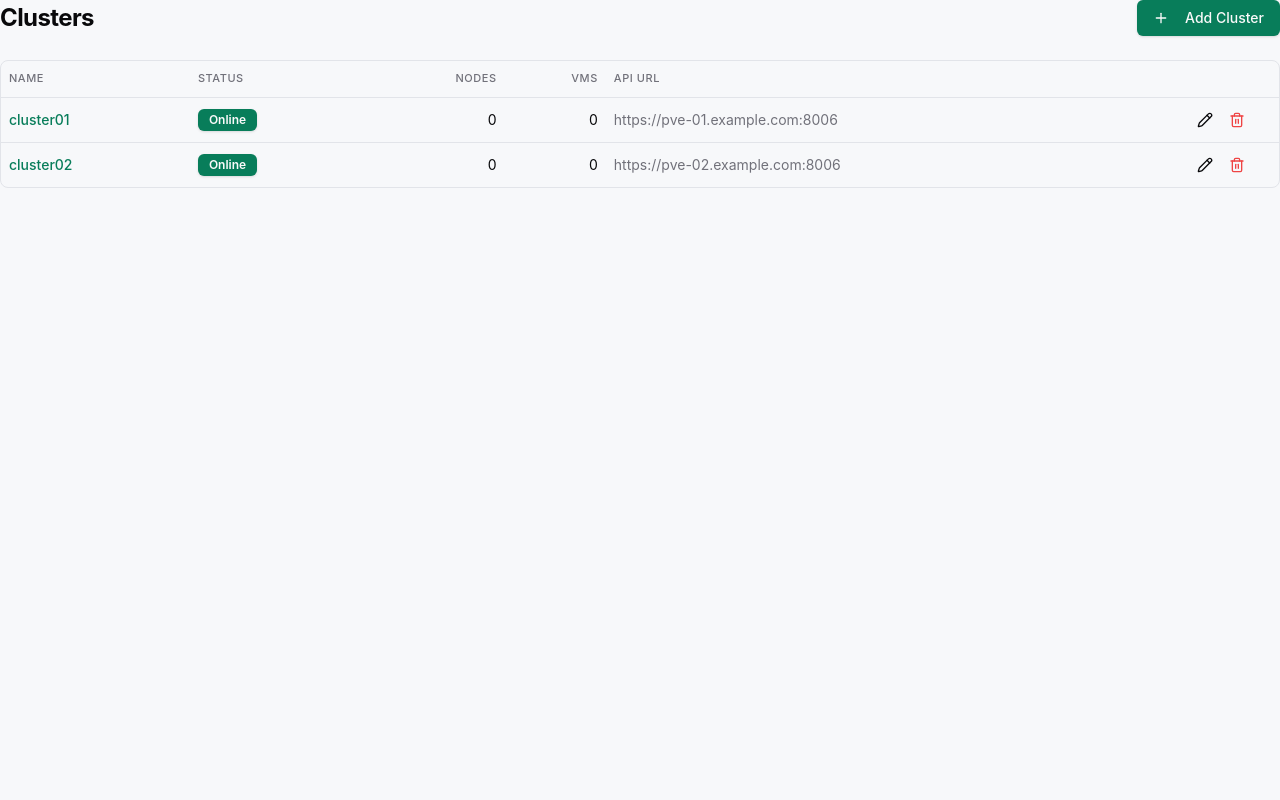
Test: an edit of a cluster whose dialog is replaced by another cluster's from the keyboard › control: closes the dialog when its own save succeeds, with no toast
Step 1. Click the button named "Edit cluster01" → [1205, 120], box [1191,106,1219,134]
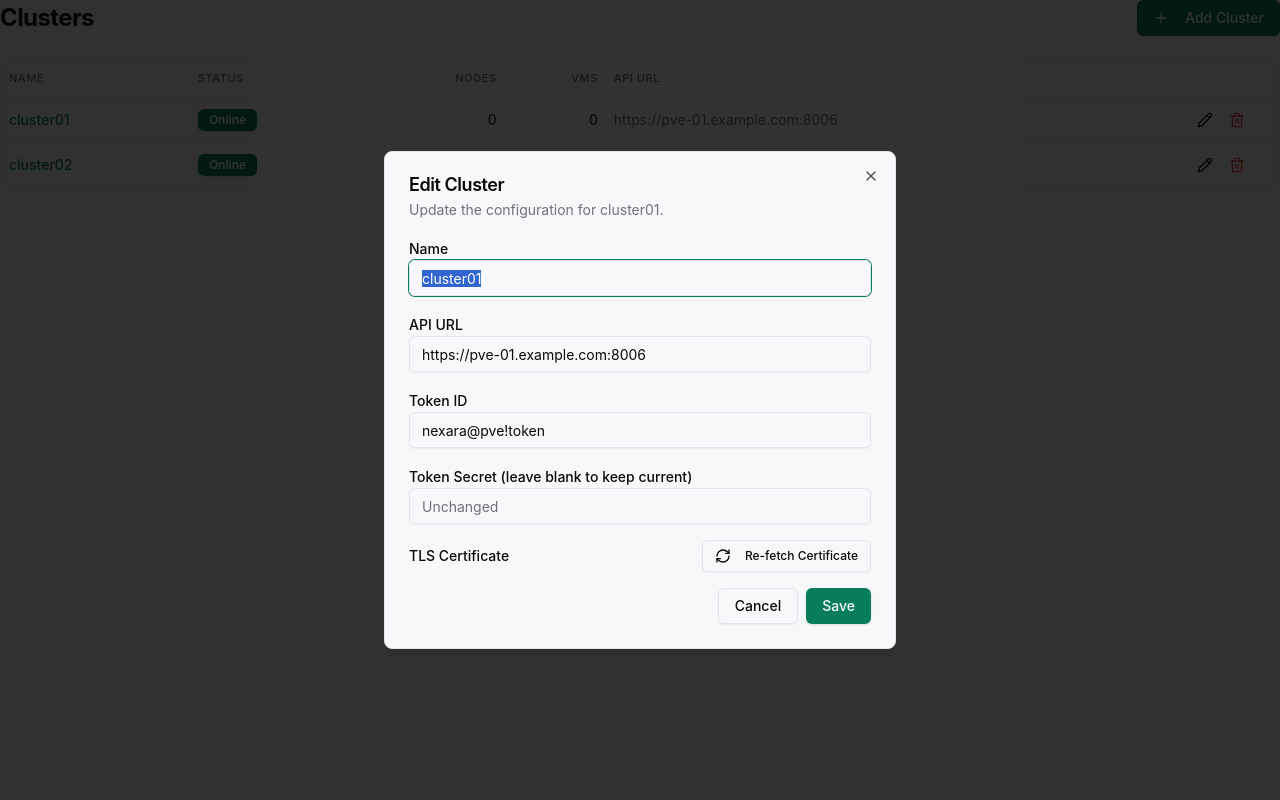
Step 2. Type "x" into the field labelled "Name" → [640, 278], box [409,260,871,296]
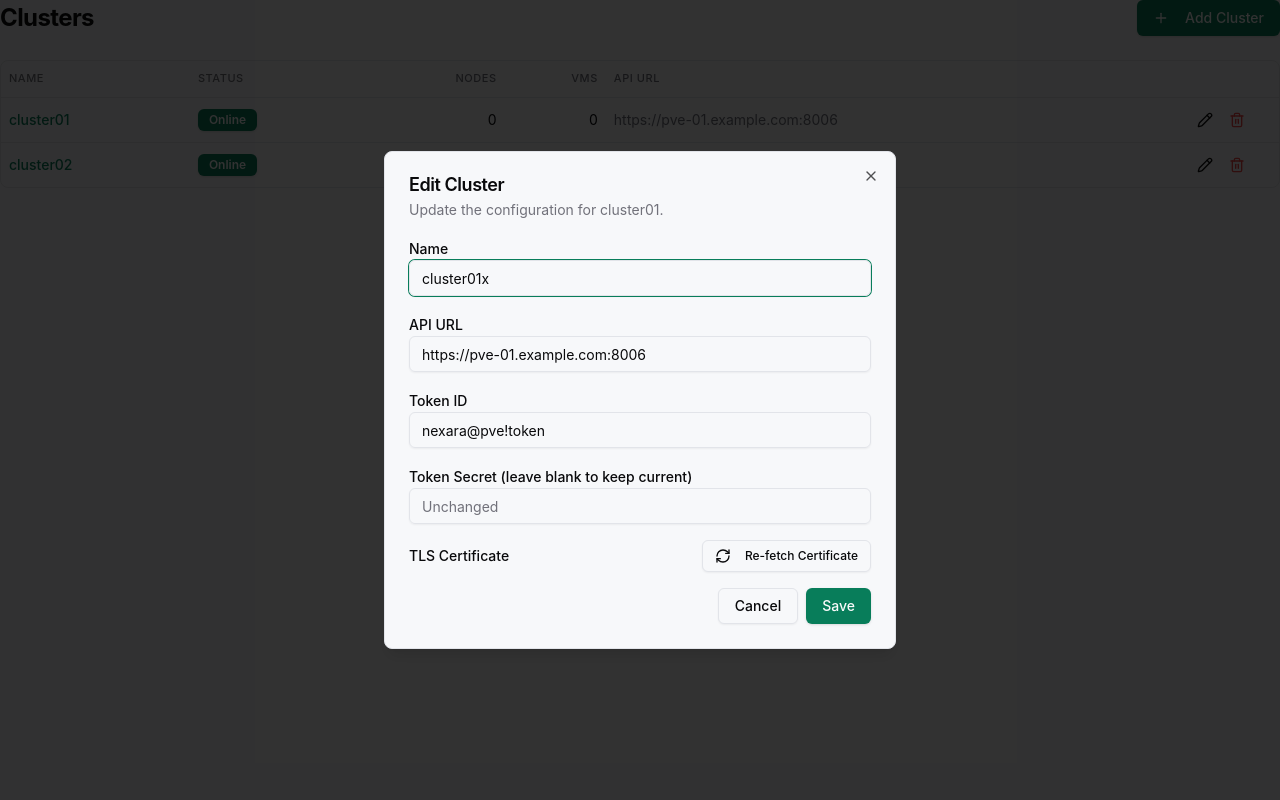
Step 3. Click the button "Save" → [839, 606], box [806,588,871,624]
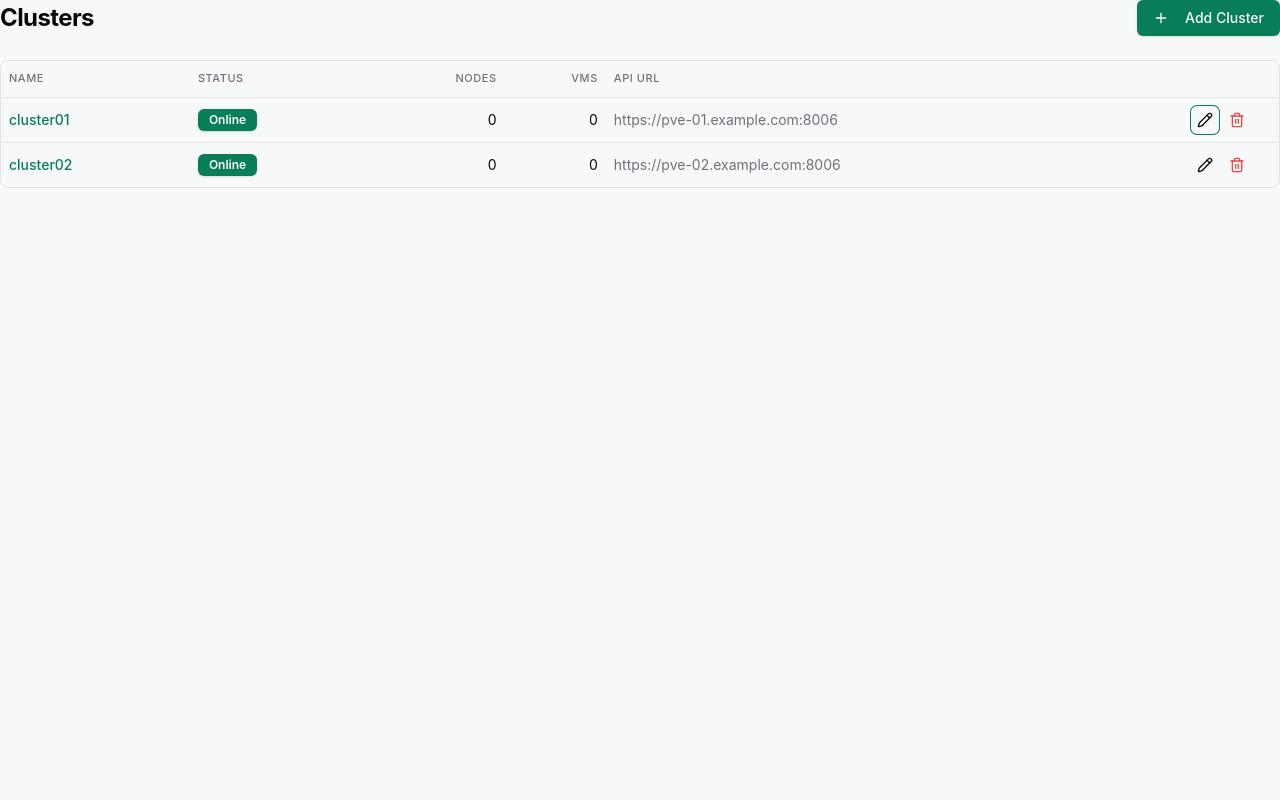
Expected: the heading "Edit Cluster" is gone
